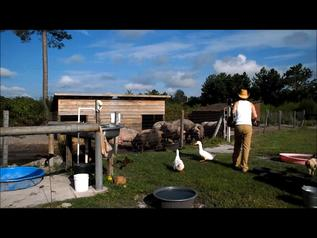down: (50, 29, 71, 43)
